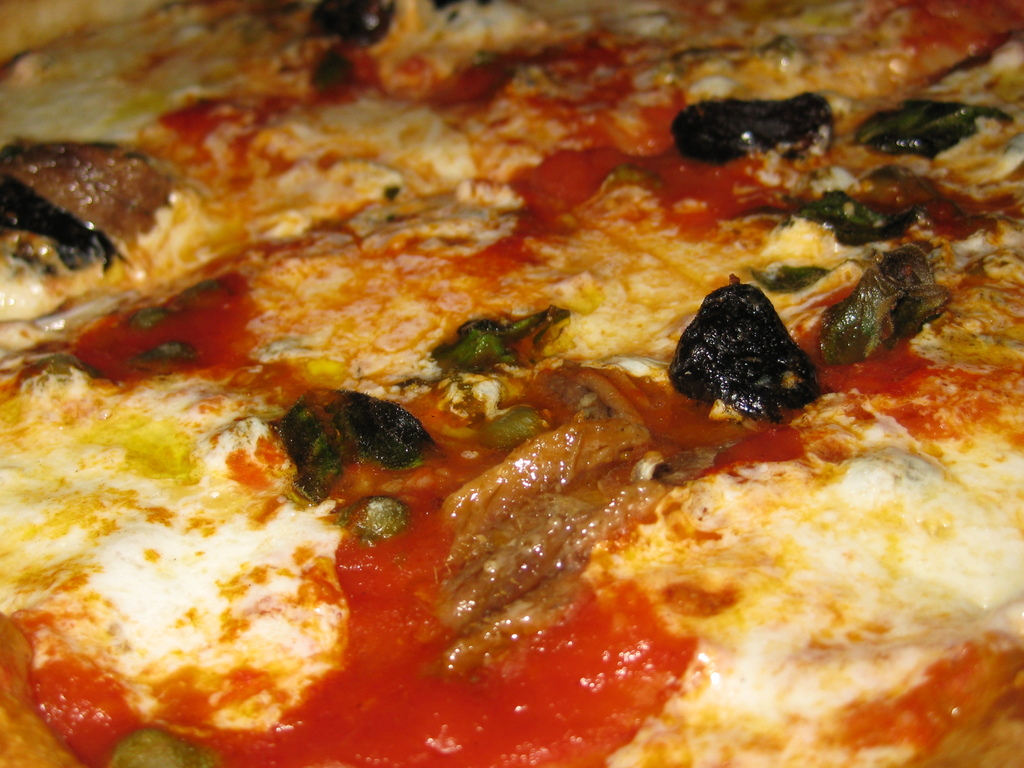Pizza: (0, 6, 1006, 768)
